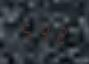five: (18, 17, 34, 43)
nine: (36, 19, 52, 44)
two: (53, 20, 69, 46)
